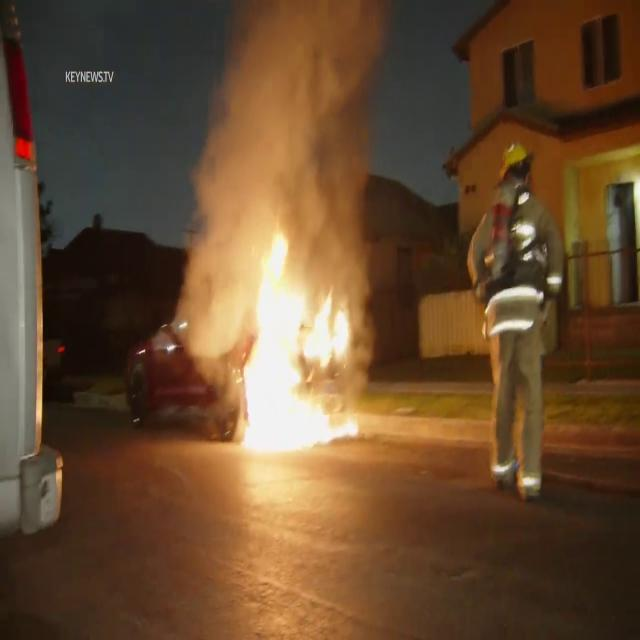Fire: (226, 208, 368, 462)
Smoke: (178, 1, 404, 251)
